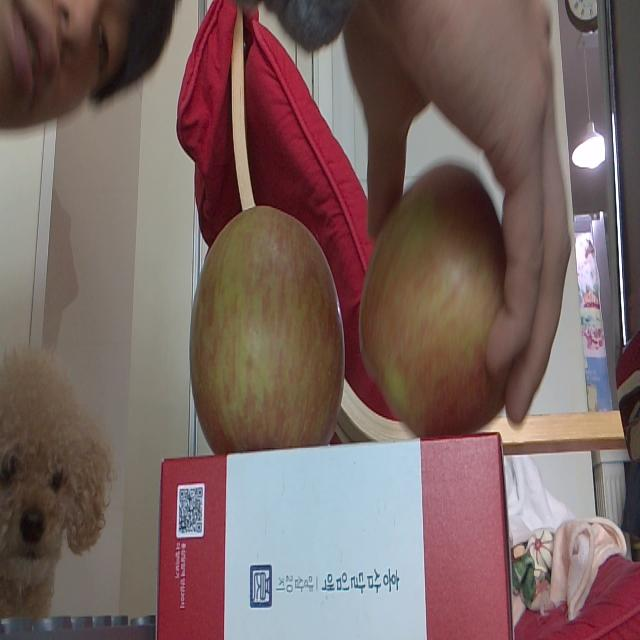apple: (361, 164, 518, 434), (188, 202, 345, 451)
